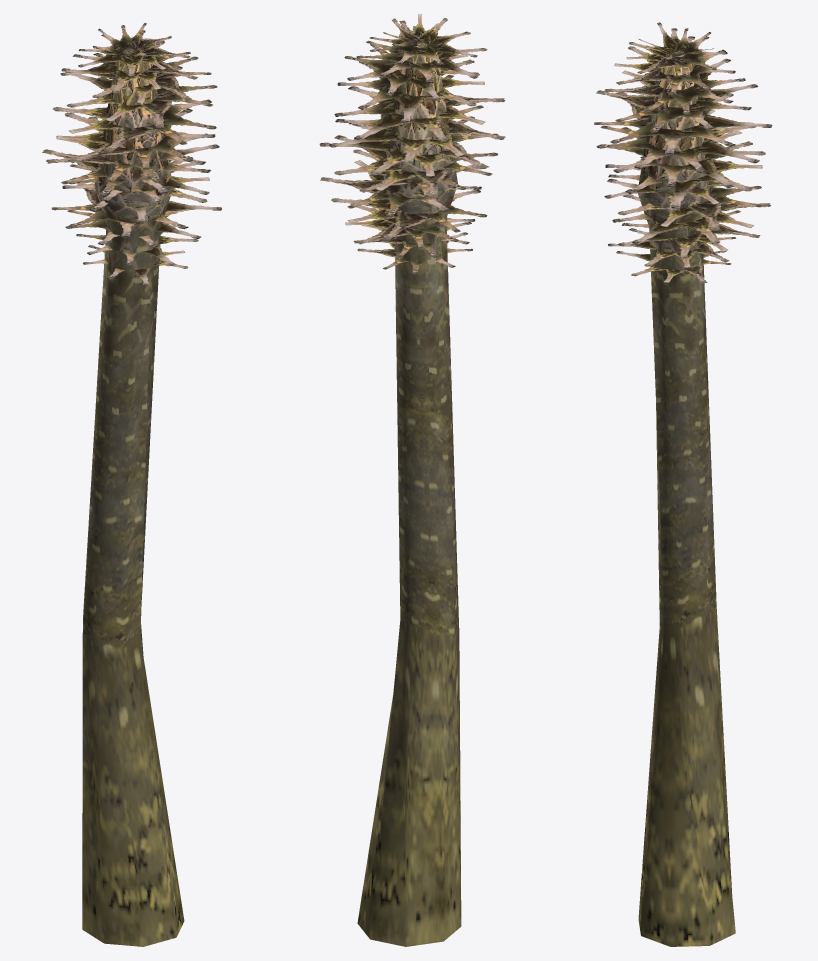
Rendered from flora_tree_date_palm_dead_v4.glb.
The picture shows the model from 3 angles, left to right: view 1: azimuth 30°, elevation 25°; view 2: azimuth 150°, elevation 25°; view 3: azimuth 270°, elevation 25°; orthographic projection.
Parts seen in each view (by area): view 1: flora_tree_date_palm_dead_v4_part0; view 2: flora_tree_date_palm_dead_v4_part0; view 3: flora_tree_date_palm_dead_v4_part0.
Part boxes in pixels (x1,y1,x2,y2): flora_tree_date_palm_dead_v4_part0: (42,23,221,946); flora_tree_date_palm_dead_v4_part0: (319,14,505,946); flora_tree_date_palm_dead_v4_part0: (594,22,772,946).
Bounding box in the file's own units: 3.11 × 12.32 × 3.05.
1 material, 1 textured.
